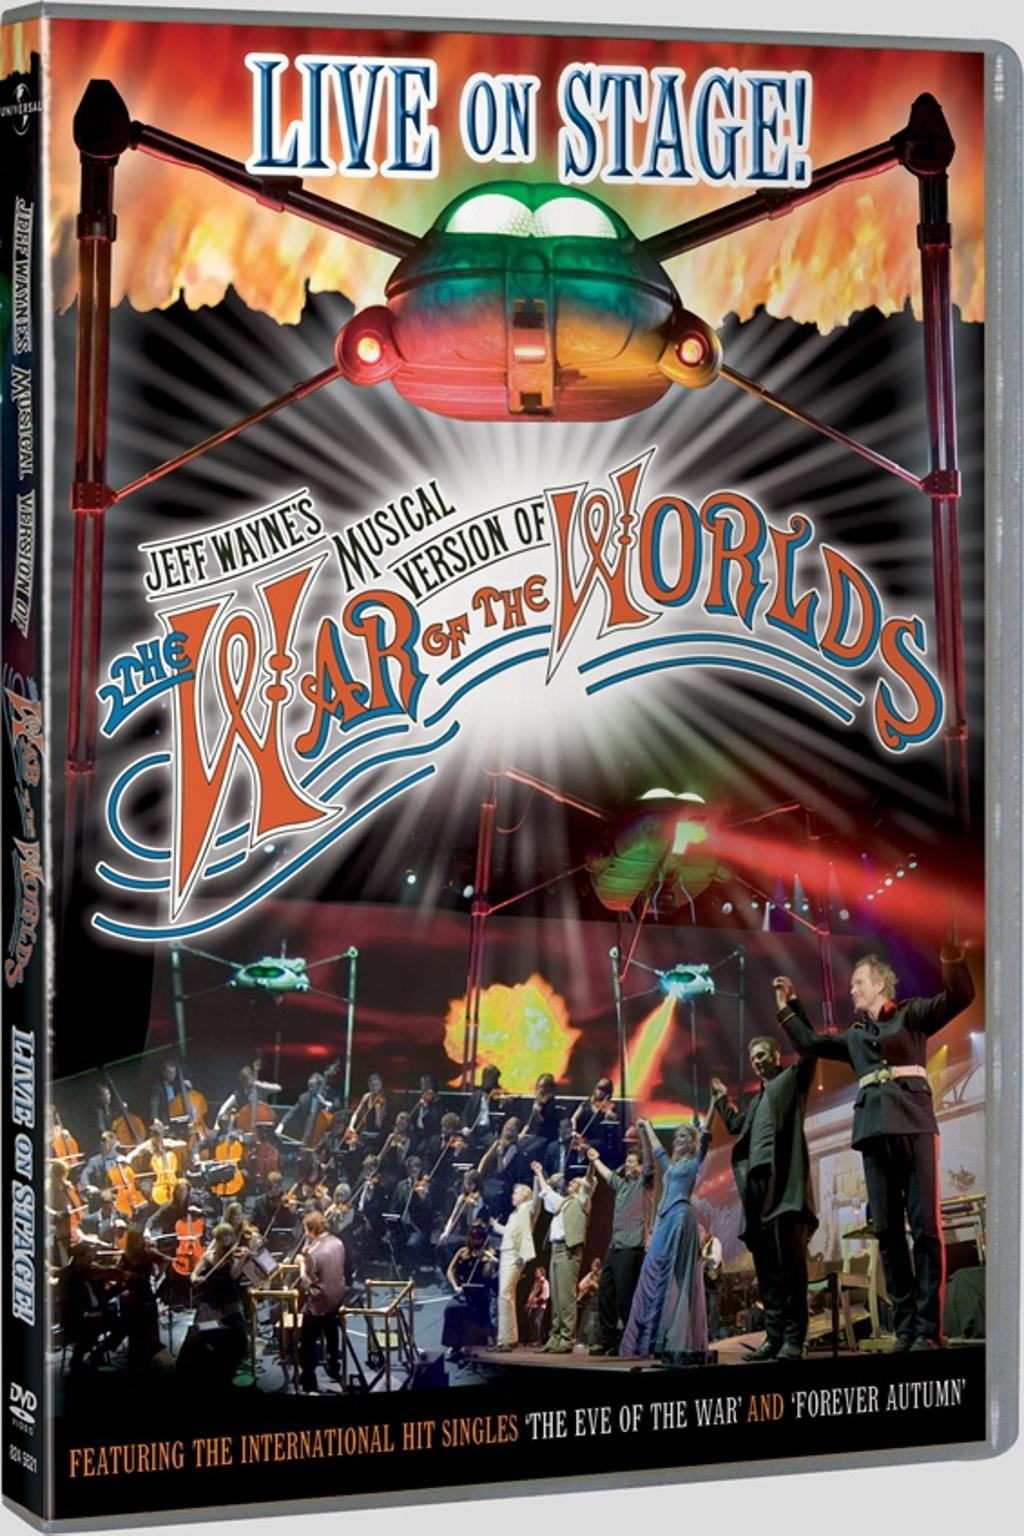face: (850, 969, 879, 1008), (750, 1045, 771, 1076)
